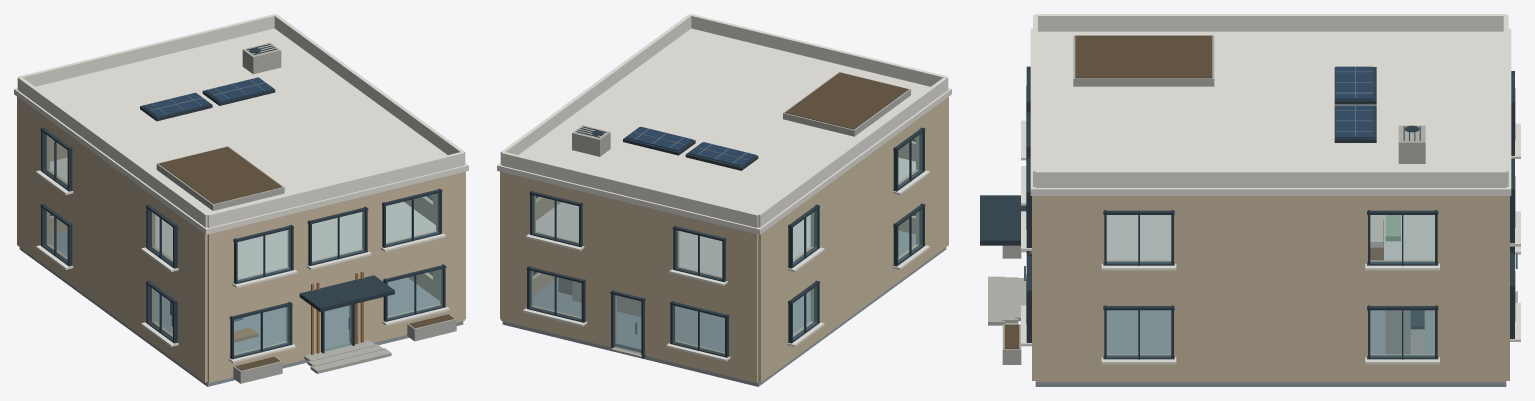
The model's file is House_3.fbx.
The picture shows the model from 3 angles, left to right: view 1: azimuth 30°, elevation 25°; view 2: azimuth 150°, elevation 25°; view 3: azimuth 270°, elevation 25°; orthographic projection. The views are drawn at different scales.
Parts seen in each view (by area): view 1: House_3; view 2: House_3; view 3: House_3.
Boxes of the visible parts, x1,y1,x2,y2 form: House_3: (14,14,468,386); House_3: (497,14,951,386); House_3: (980,14,1520,386).
Bounding box in the file's own units: 11.87 × 7.32 × 16.09.
